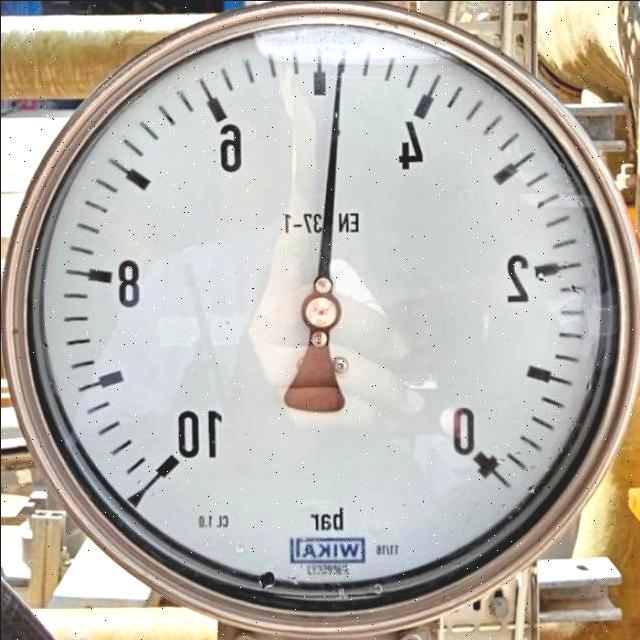Needle_Tip: (304, 39, 375, 106)
Needle_base: (291, 282, 353, 345)
max_value: (146, 403, 238, 462)
min_value: (425, 398, 499, 468)
